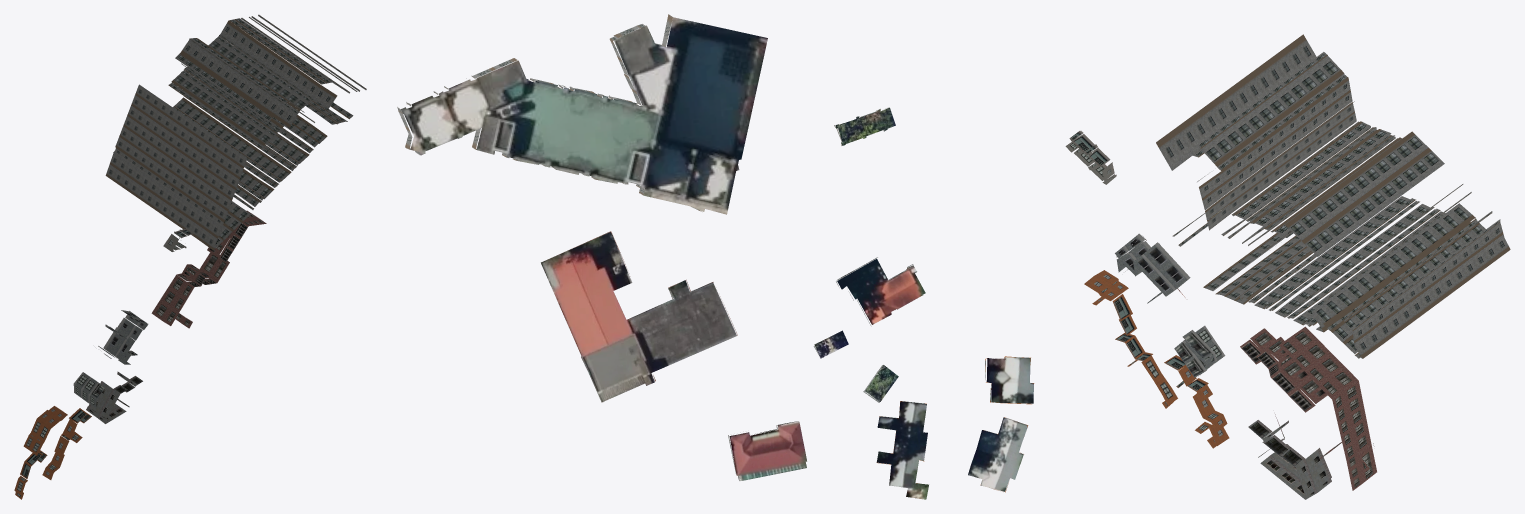
File: tile_LOD4_r13_c9.glb
3 renders of one model, left to right at view 1: azimuth 30°, elevation 25°; view 2: azimuth 150°, elevation 25°; view 3: azimuth 270°, elevation 25°, orthographic. The views are drawn at different scales.
Bounding box in the file's own units: 170 × 141 × 109.
37 materials, 37 textured.
